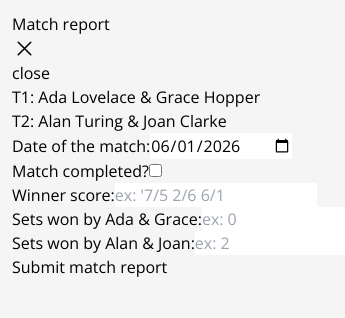
Test: MatchReportModal › shows and hides the winner selector as the finished state changes
Expected: the field labelled "Who won:" is not shown
Click the checkbox labelled "Match completed?". click: {"x": 155, "y": 170}
box: [149,164,162,177]
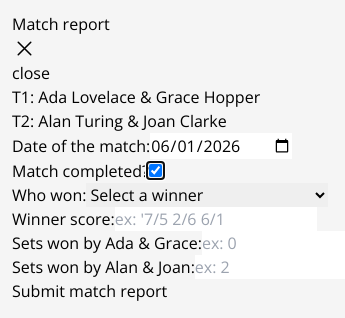
Now the dropdown labelled "Who won:" is shown, box [86,183,328,207]
Click the checkbox labelled "Match completed?". click: {"x": 155, "y": 170}
box: [149,164,162,177]
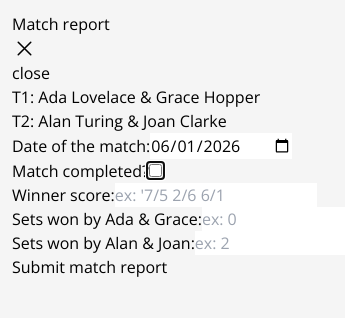
Now the label labelled "Who won:" is gone
